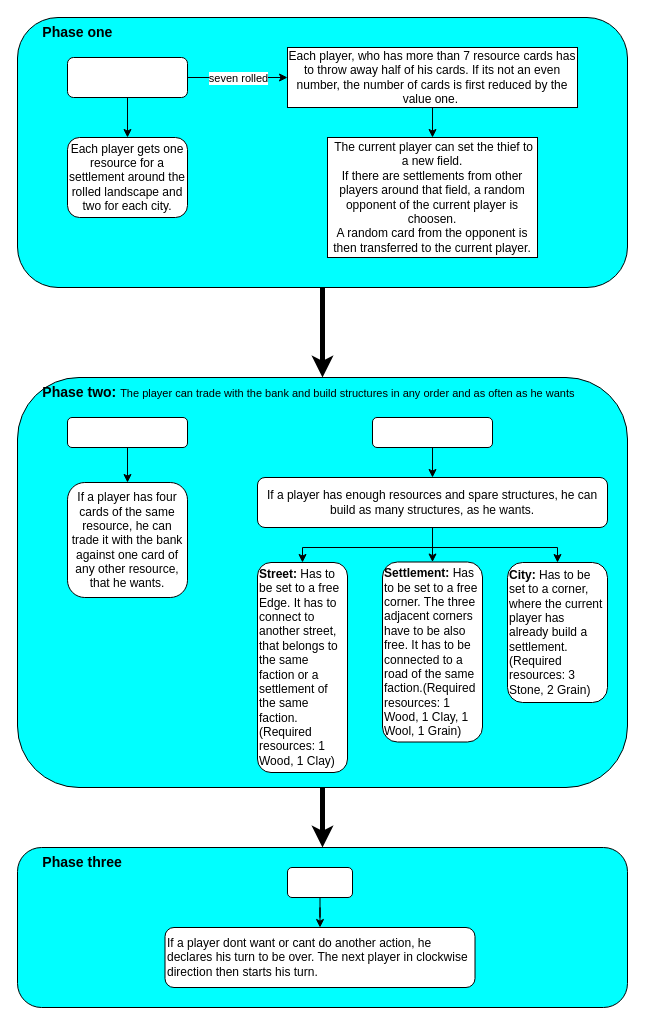
Some shapes in this 645 by 1025 pixel diagram are drawn without their labels. The centre of each missing label's shape, as x and y in pixels:
Build structures: (x=432, y=432)
End turn: (x=319, y=882)
The dice is rolled: (x=127, y=77)
Trade: (x=127, y=432)
